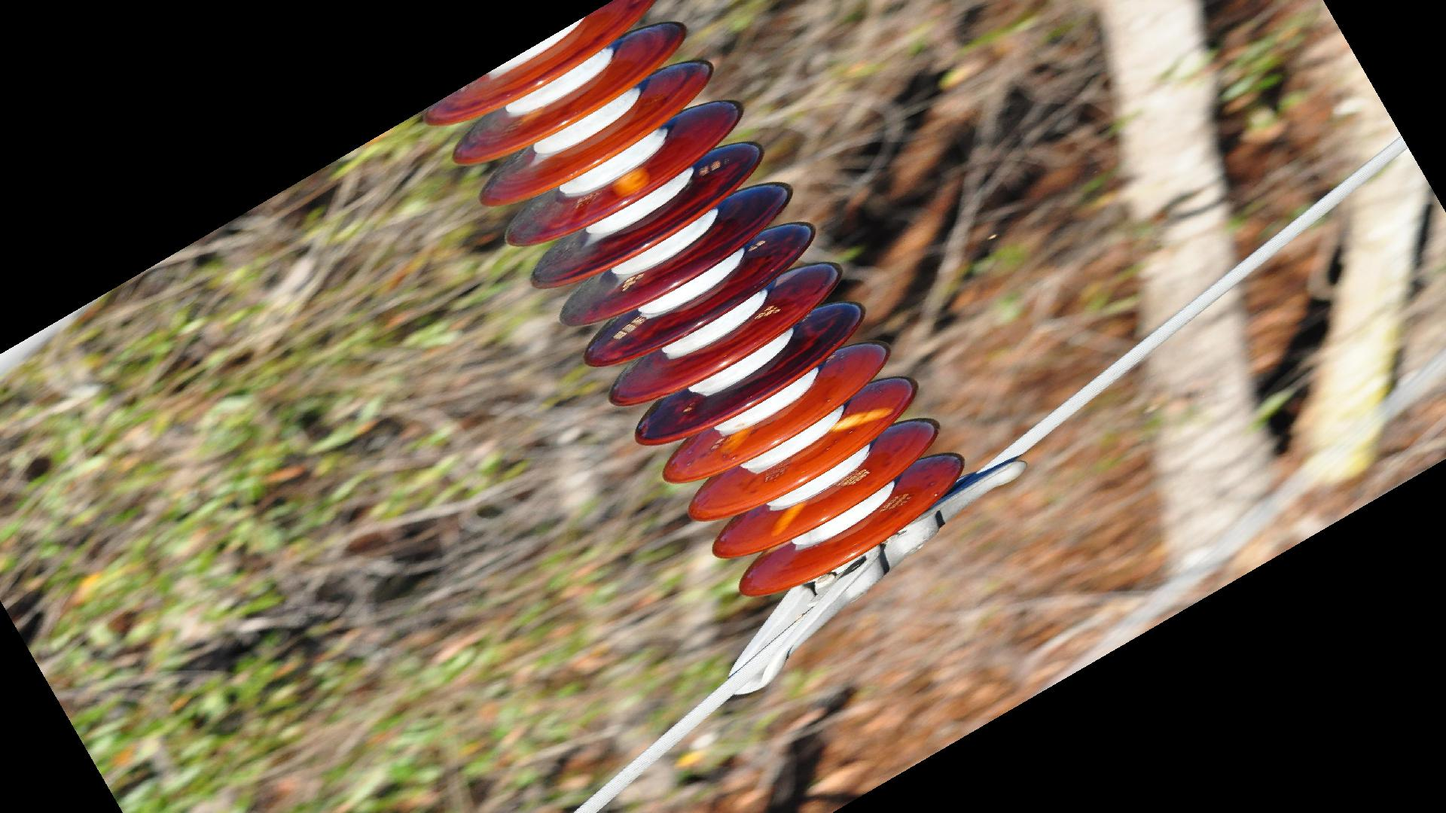insulator: (414, 1, 973, 604)
insulator_flashover: (826, 400, 895, 435), (605, 163, 654, 206), (764, 498, 809, 541)
